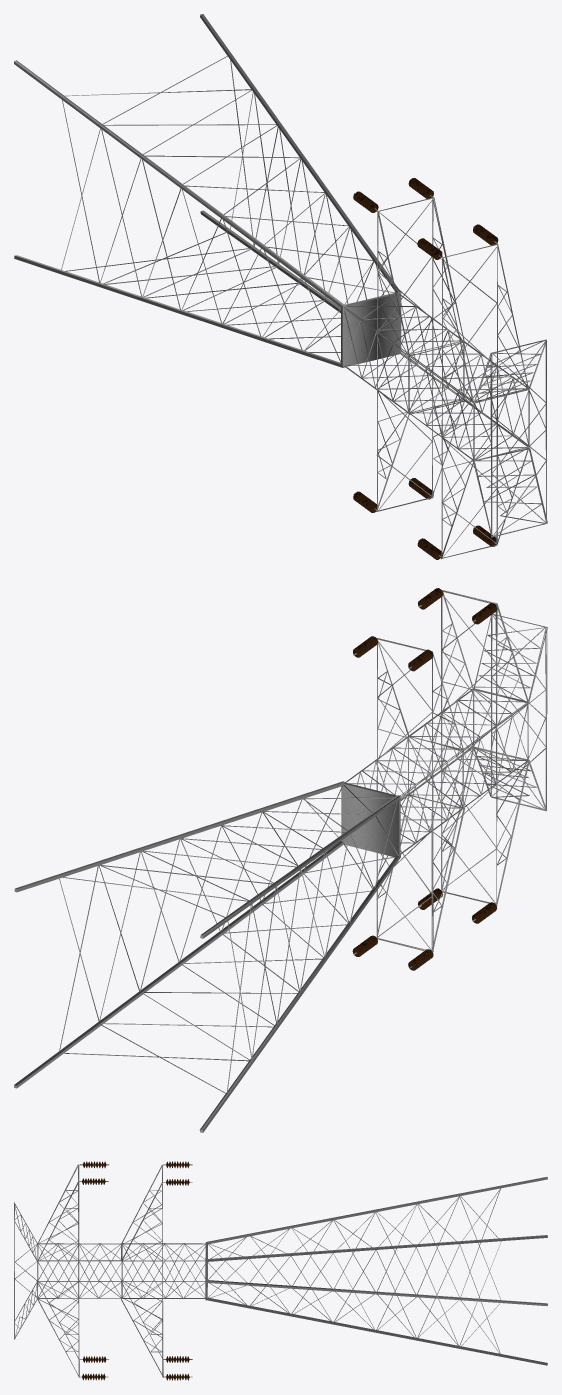
File: HighTensionPowerLine.obj
3 renders of one model, top to bottom at view 1: azimuth 30°, elevation 25°; view 2: azimuth 150°, elevation 25°; view 3: azimuth 270°, elevation 25°, orthographic. The views are drawn at different scales.
Parts seen in each view (by area): view 1: High_Tensi; view 2: High_Tensi; view 3: High_Tensi.
Boxes of the visible parts, box(x1,y1,x2,y2) form: High_Tensi: box(14, 14, 547, 559); High_Tensi: box(14, 588, 547, 1132); High_Tensi: box(14, 1161, 547, 1380).
Size of the model in its own units: 0.2665 by 0.4165 by 1.
2 materials, 1 textured.
